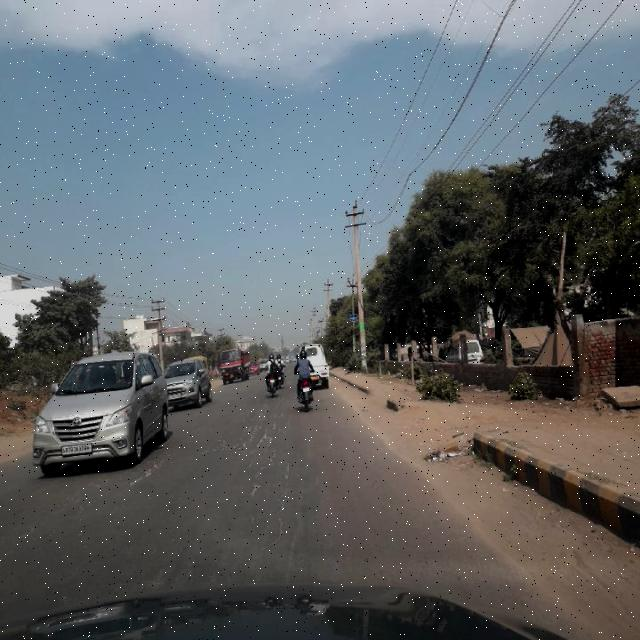D00: (228, 401, 290, 547)
